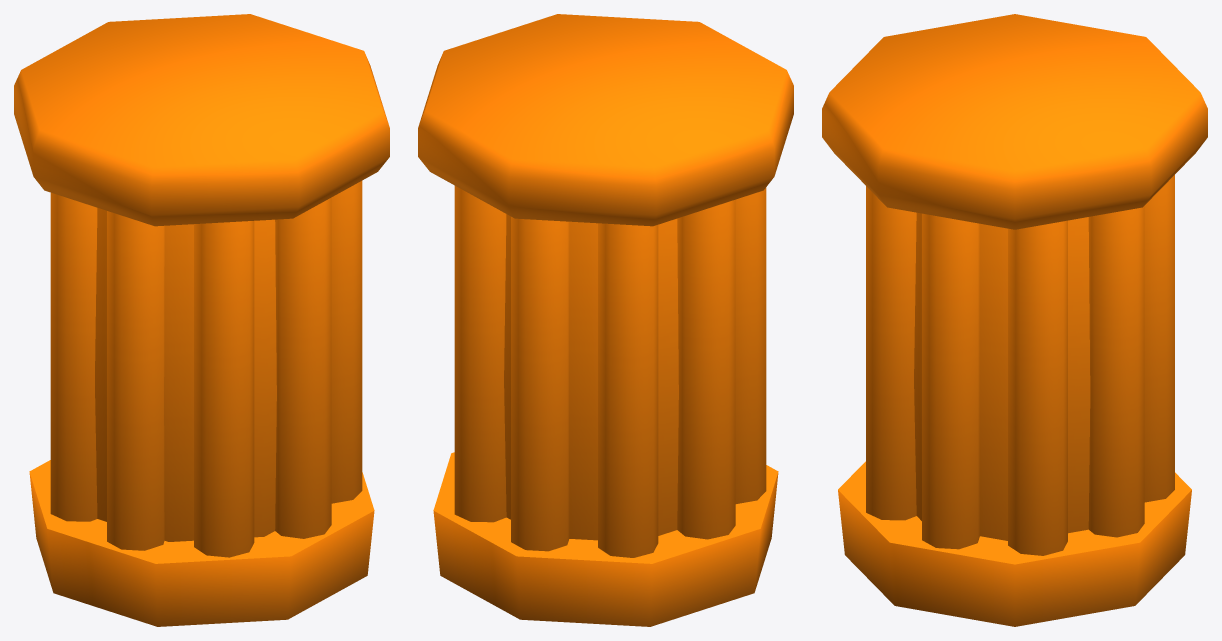
File: bronze_grip_103.glb
The picture shows the model from 3 angles, left to right: view 1: azimuth 30°, elevation 25°; view 2: azimuth 150°, elevation 25°; view 3: azimuth 270°, elevation 25°; orthographic projection.
Visible parts, largest first — view 1: bronze_grip_103; view 2: bronze_grip_103; view 3: bronze_grip_103.
Boxes of the visible parts, <box> form: bronze_grip_103: <box>14,14,389,626</box>; bronze_grip_103: <box>418,14,793,626</box>; bronze_grip_103: <box>822,14,1207,626</box>.
Size of the model in its own units: 2.5 by 3.31 by 2.5.
Materials: 1 (1 with a texture image).
